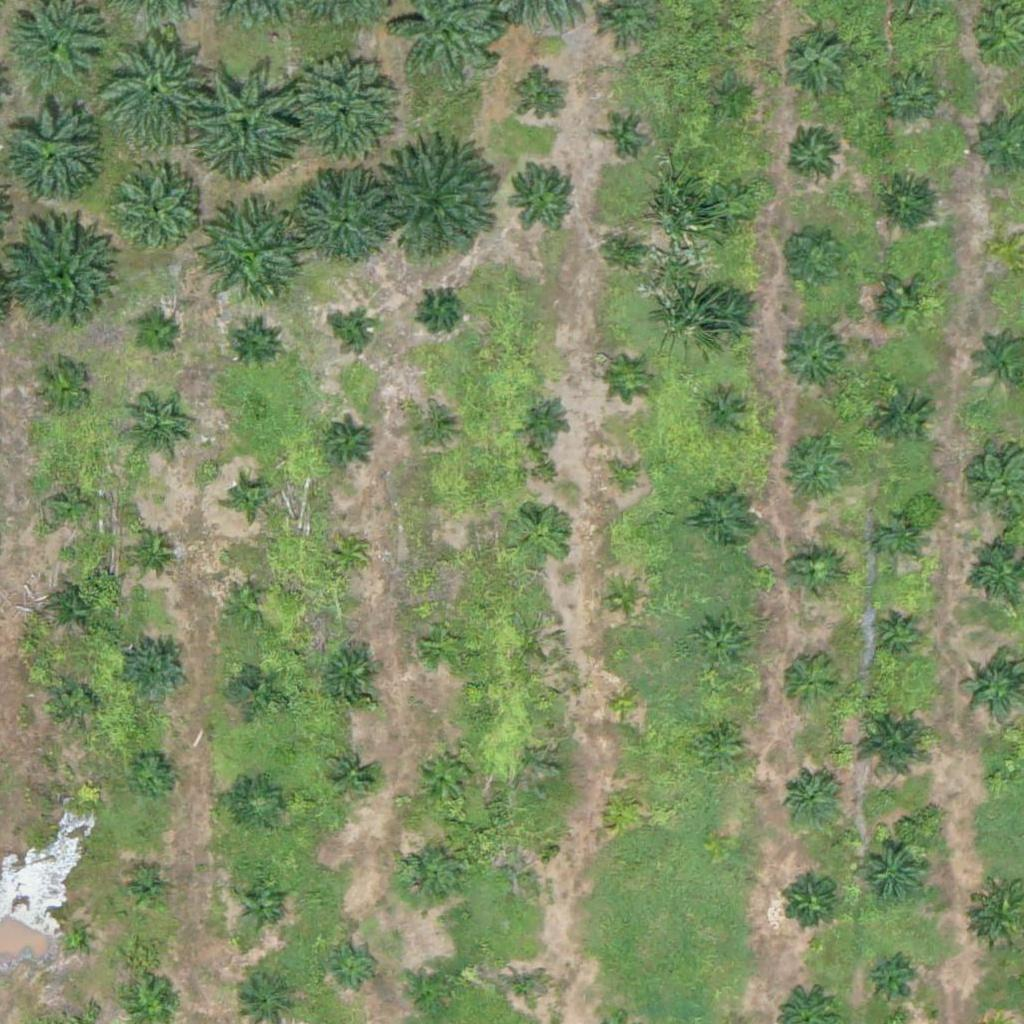Kelapa_Sawit: (185, 61, 310, 187), (93, 27, 218, 153), (381, 142, 506, 267), (2, 223, 115, 337), (282, 55, 395, 168), (191, 205, 303, 318), (292, 166, 392, 267), (106, 160, 206, 261), (851, 701, 938, 789), (773, 222, 848, 298), (854, 832, 929, 907), (505, 158, 580, 233), (777, 650, 840, 713), (782, 443, 845, 506), (780, 767, 843, 830), (123, 403, 186, 466), (29, 357, 92, 420), (396, 841, 459, 904), (695, 486, 758, 549), (125, 639, 188, 702), (691, 616, 754, 679), (696, 286, 759, 349), (875, 170, 938, 233), (40, 474, 103, 537), (781, 327, 843, 390), (778, 870, 840, 933), (871, 387, 933, 450), (320, 643, 382, 706), (414, 744, 476, 807), (782, 29, 844, 92), (510, 504, 572, 567), (232, 778, 282, 829), (700, 390, 750, 441), (230, 660, 280, 711), (50, 582, 100, 633), (519, 75, 569, 126), (707, 184, 757, 235), (126, 525, 176, 576), (51, 676, 101, 727), (127, 749, 177, 800), (325, 749, 375, 800), (499, 964, 549, 1015), (411, 962, 461, 1013), (329, 939, 379, 990), (237, 881, 287, 932), (789, 549, 839, 599), (861, 958, 911, 1008), (881, 279, 931, 329), (230, 318, 280, 368), (324, 416, 374, 466), (694, 717, 744, 767), (789, 131, 839, 181), (883, 72, 933, 122), (520, 395, 570, 445), (420, 620, 470, 670), (223, 580, 273, 630), (131, 313, 181, 363), (122, 866, 172, 916), (870, 610, 919, 661), (614, 360, 652, 398), (421, 288, 459, 326), (714, 77, 752, 115), (607, 461, 645, 499), (605, 580, 643, 618), (607, 687, 645, 725), (603, 787, 641, 825), (329, 534, 367, 572), (232, 479, 270, 517), (338, 314, 375, 352), (880, 519, 917, 557), (415, 412, 452, 450), (427, 541, 464, 579), (510, 839, 547, 877), (605, 122, 642, 159), (609, 232, 646, 269), (997, 240, 1022, 265), (987, 767, 1012, 792), (59, 923, 84, 948)
